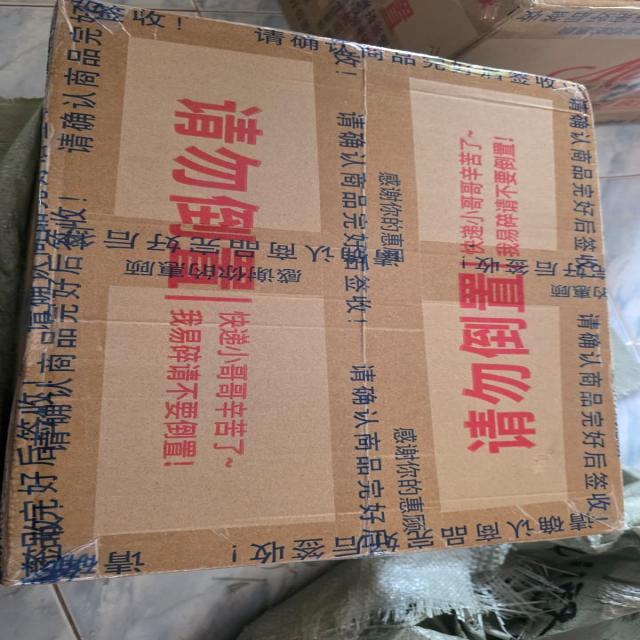carton_box: (2, 3, 640, 597)
